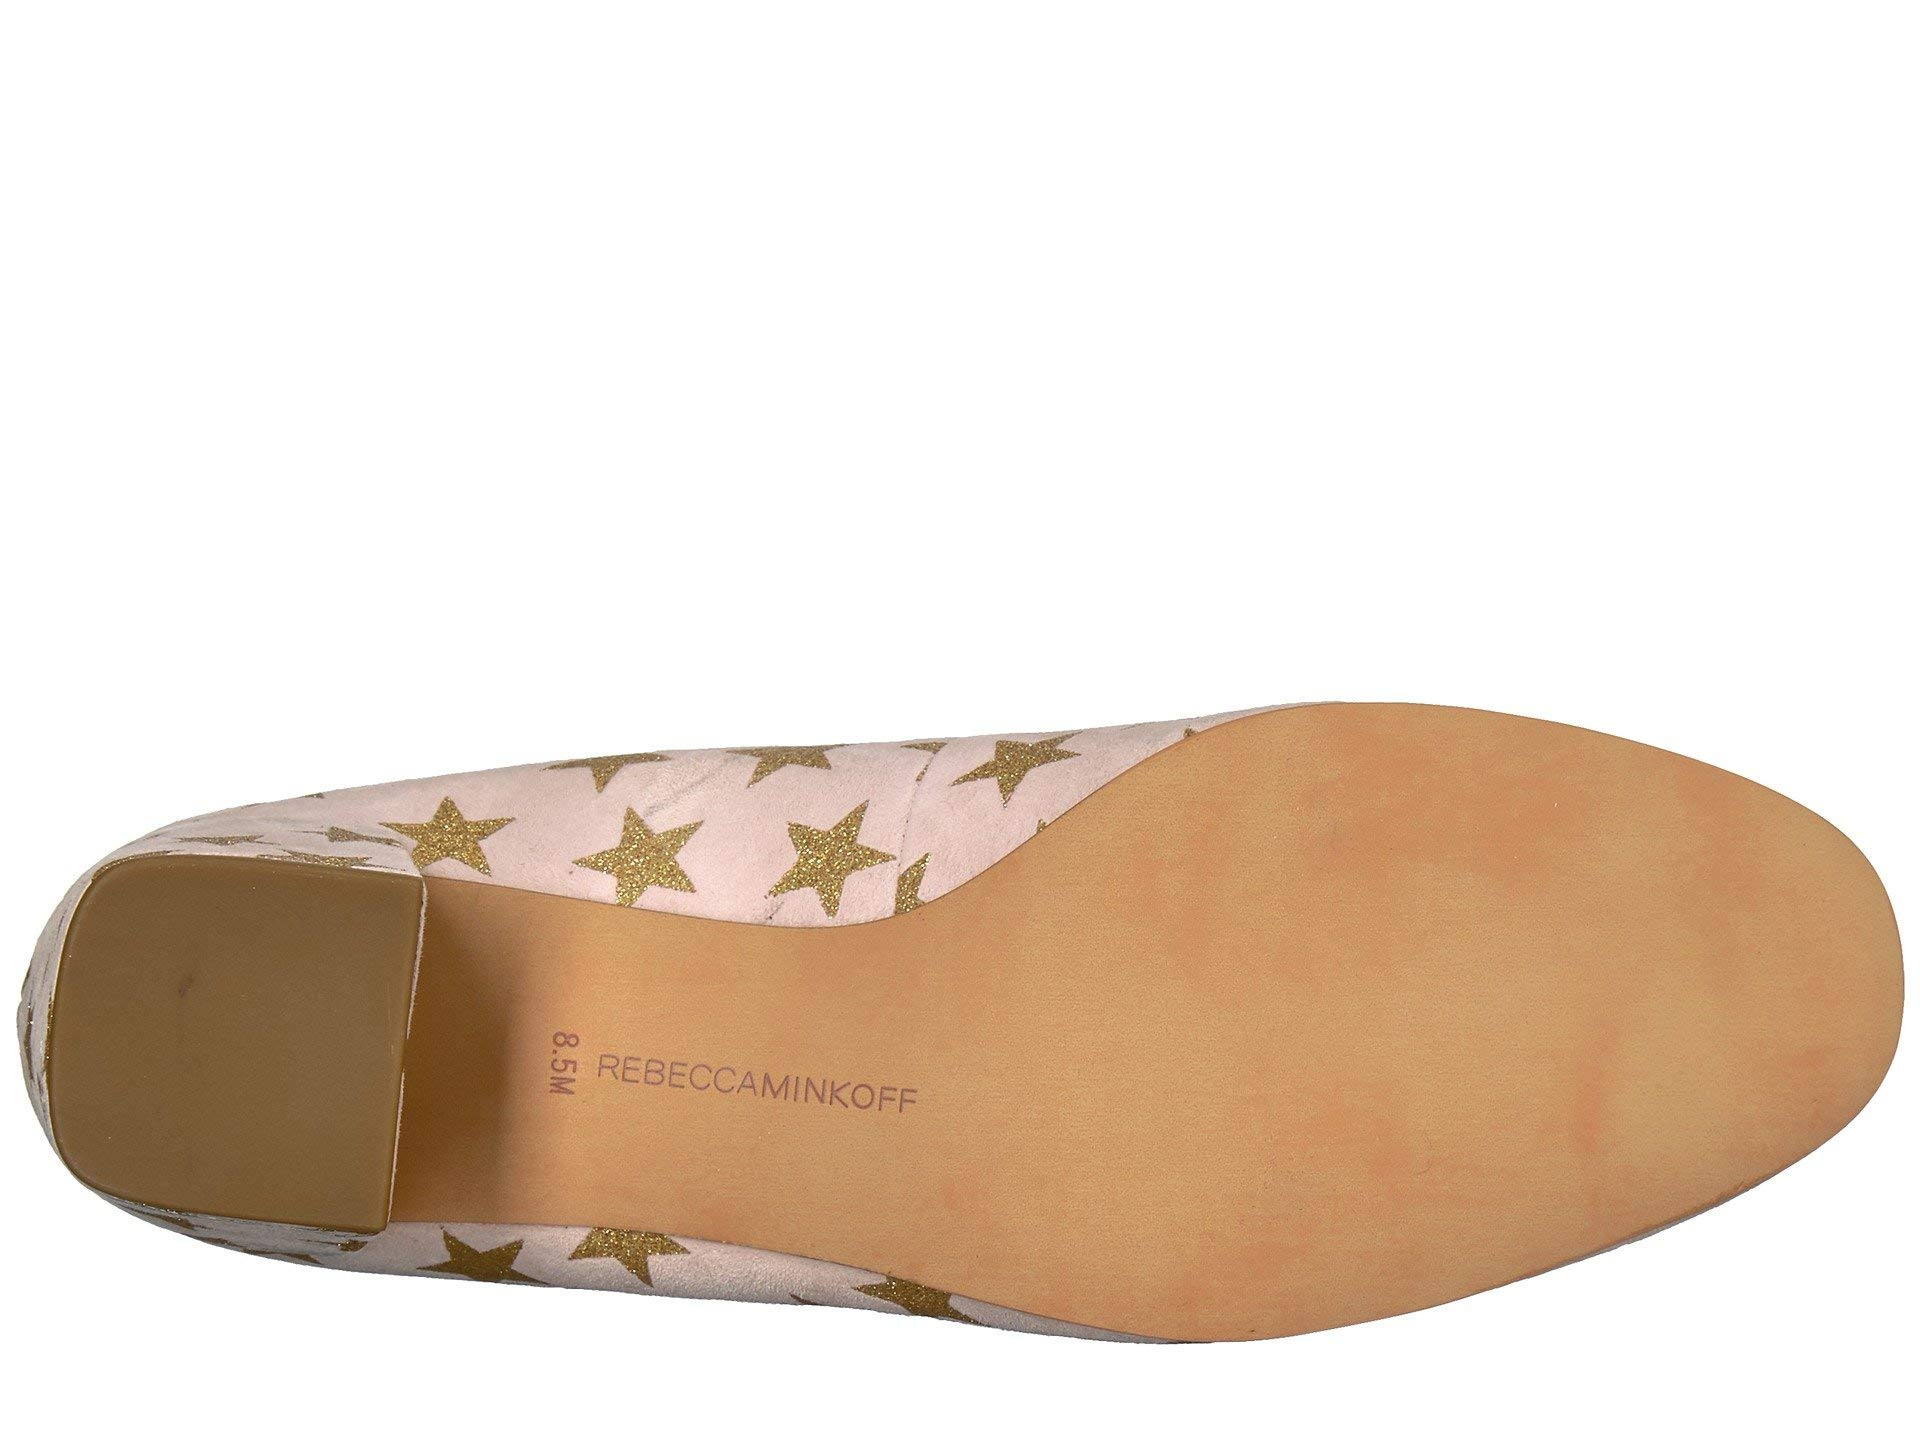exclude: (392, 867, 965, 1304)
